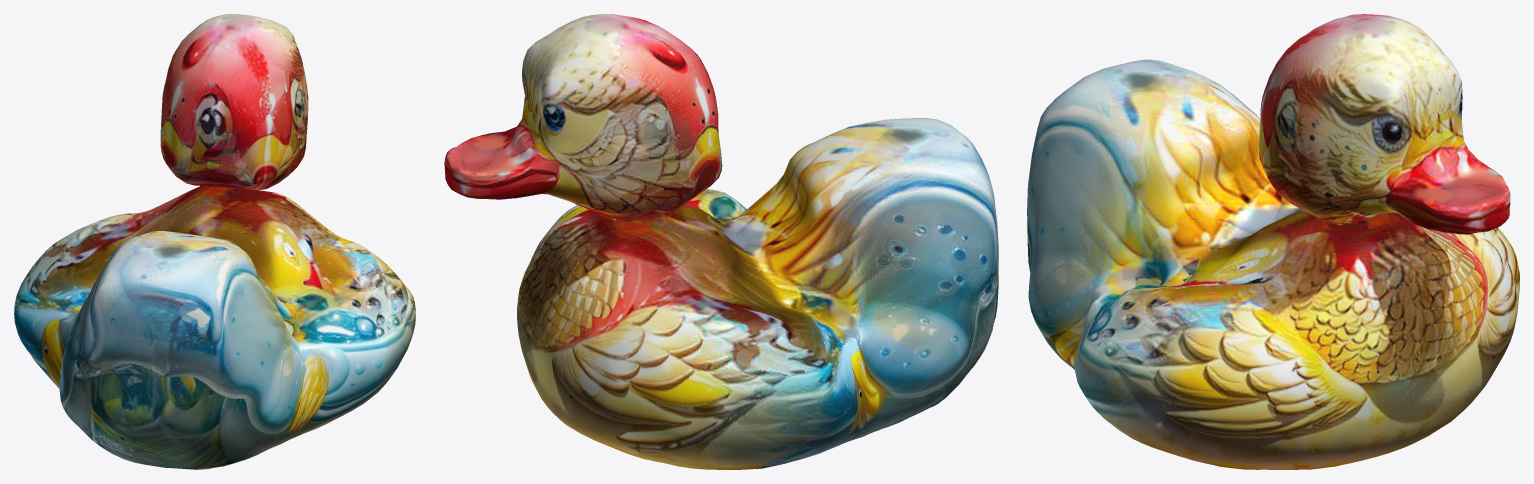
The model's file is meshy_api_rubber_ducky1.glb.
The picture shows the model from 3 angles, left to right: view 1: azimuth 30°, elevation 25°; view 2: azimuth 150°, elevation 25°; view 3: azimuth 270°, elevation 25°; orthographic projection. The views are drawn at different scales.
Size of the model in its own units: 1 by 0.9943 by 0.9916.
1 material, 1 textured.
